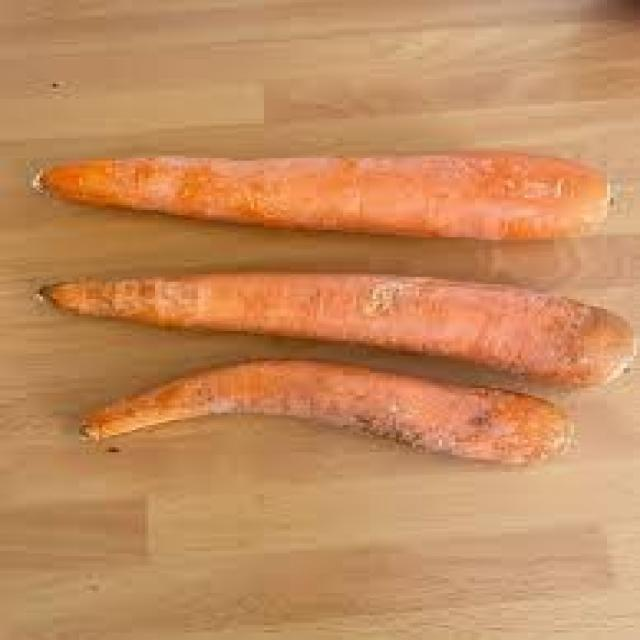Stale_Carrot: (50, 274, 632, 387), (82, 360, 572, 464), (40, 157, 606, 237)
